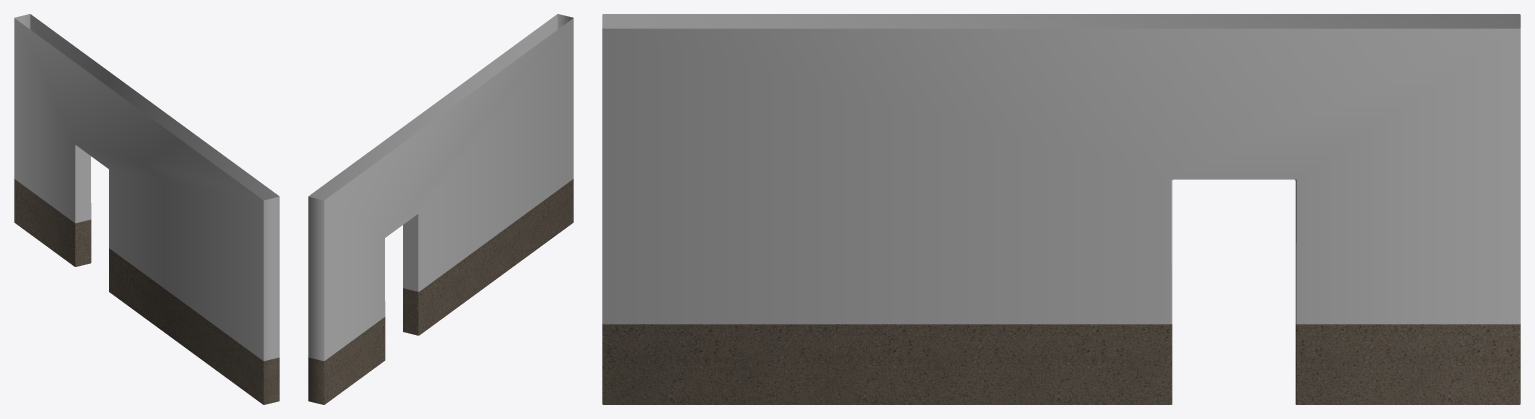
The model's file is WallDoor_08_02.fbx.
3 views of the same model, side by side, from view 1: azimuth 30°, elevation 25°; view 2: azimuth 150°, elevation 25°; view 3: azimuth 270°, elevation 25° (orthographic). The views are drawn at different scales.
Visible parts, largest first — view 1: WallDoor_08_02; view 2: WallDoor_08_02; view 3: WallDoor_08_02.
Part boxes in pixels (left/top/right/bottom): WallDoor_08_02: left=14, top=14, right=279, bottom=404; WallDoor_08_02: left=308, top=14, right=573, bottom=404; WallDoor_08_02: left=602, top=14, right=1520, bottom=404.
Bounding box in the file's own units: 0.3 × 3.62 × 8.
